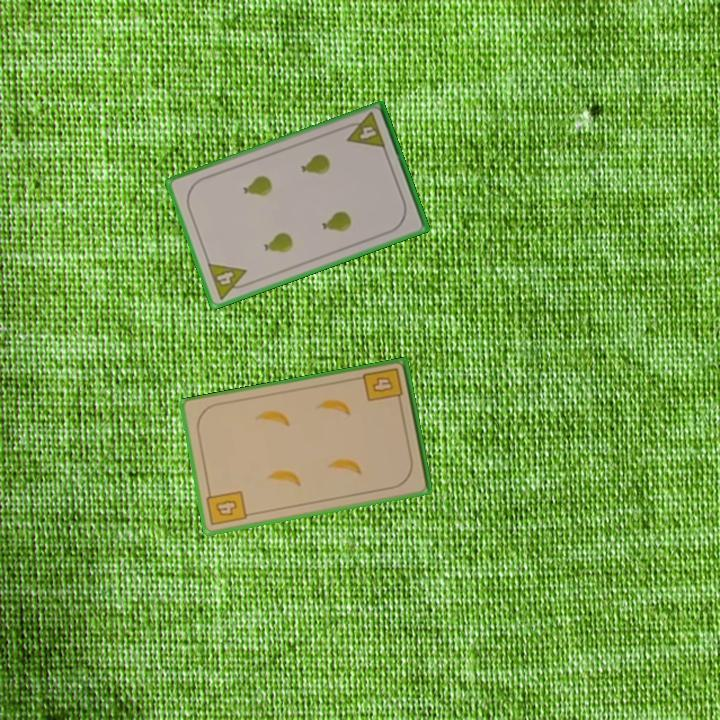4b: (360, 365, 406, 408), (203, 486, 250, 528)
4p: (204, 259, 254, 302), (340, 109, 388, 152)
